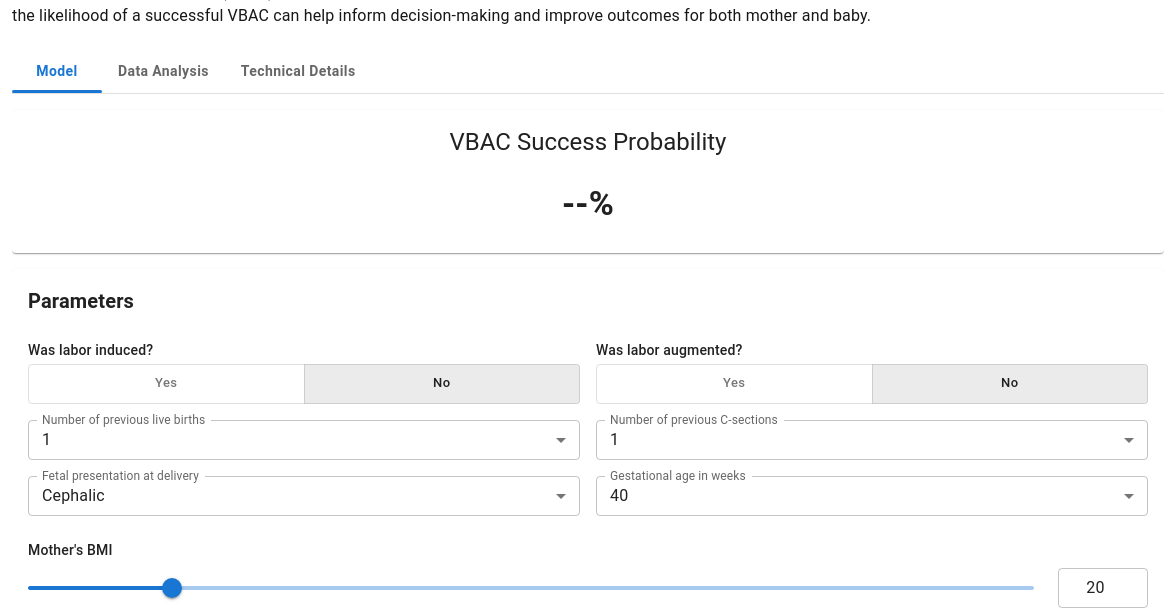
Test: VBAC page › switching to Data Analysis shows crosstab heatmap
This screenshot has width=1164, height=609.
What coordinates should you click on to do the following:
click the tab "Data Analysis"
I would click on:
 (163, 72)
Its box is [102,50,225,94].
(page scrolled)
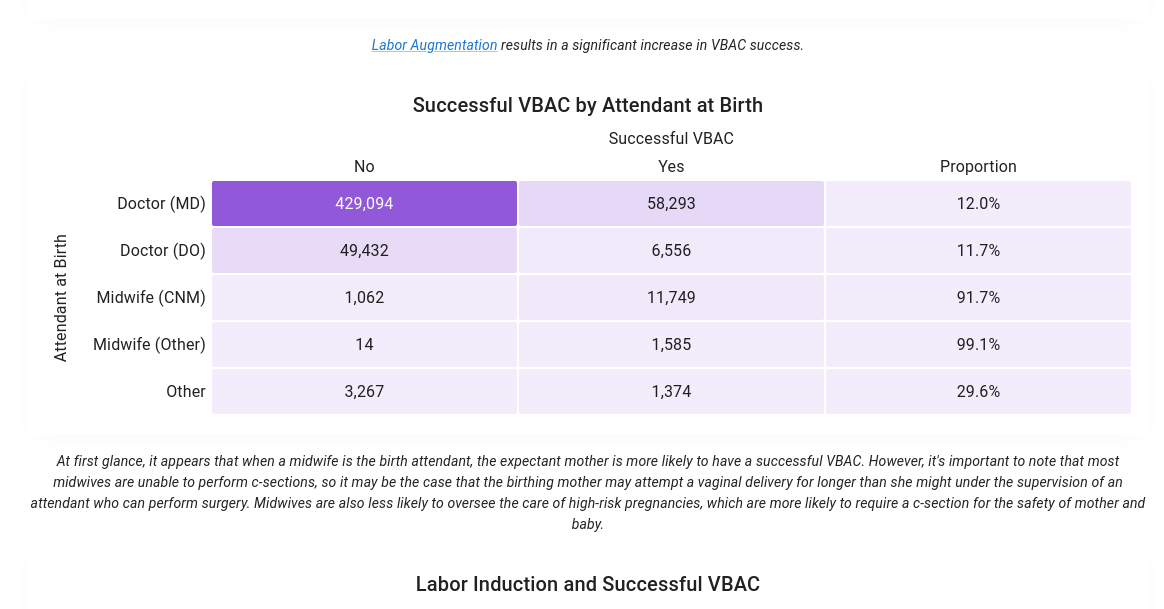
Expected: the element named "Successful VBAC by attendant at birth" is shown, [45,127,1131,414]
